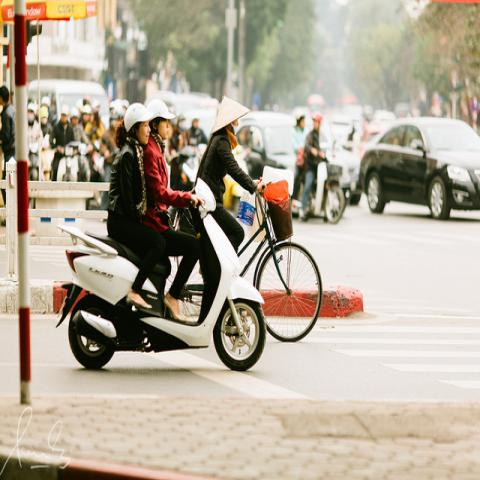car: (353, 117, 479, 224), (238, 109, 296, 195), (27, 79, 110, 129), (328, 112, 364, 207), (368, 109, 396, 139)
motorcycle: (54, 178, 267, 372), (309, 142, 345, 225), (56, 148, 79, 182)
